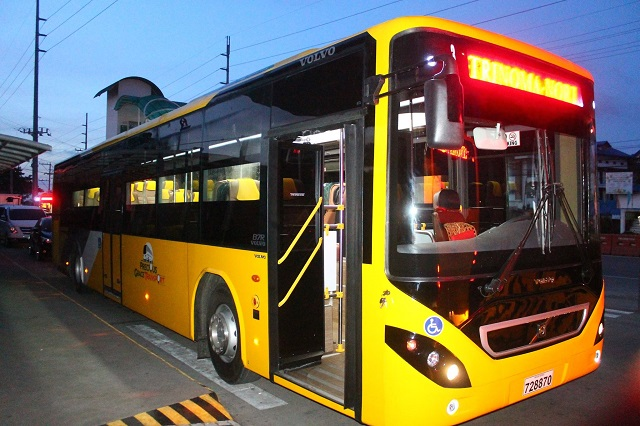bus: (53, 16, 604, 426)
car: (3, 204, 43, 242), (31, 216, 52, 253)
pole: (33, 2, 39, 196)
